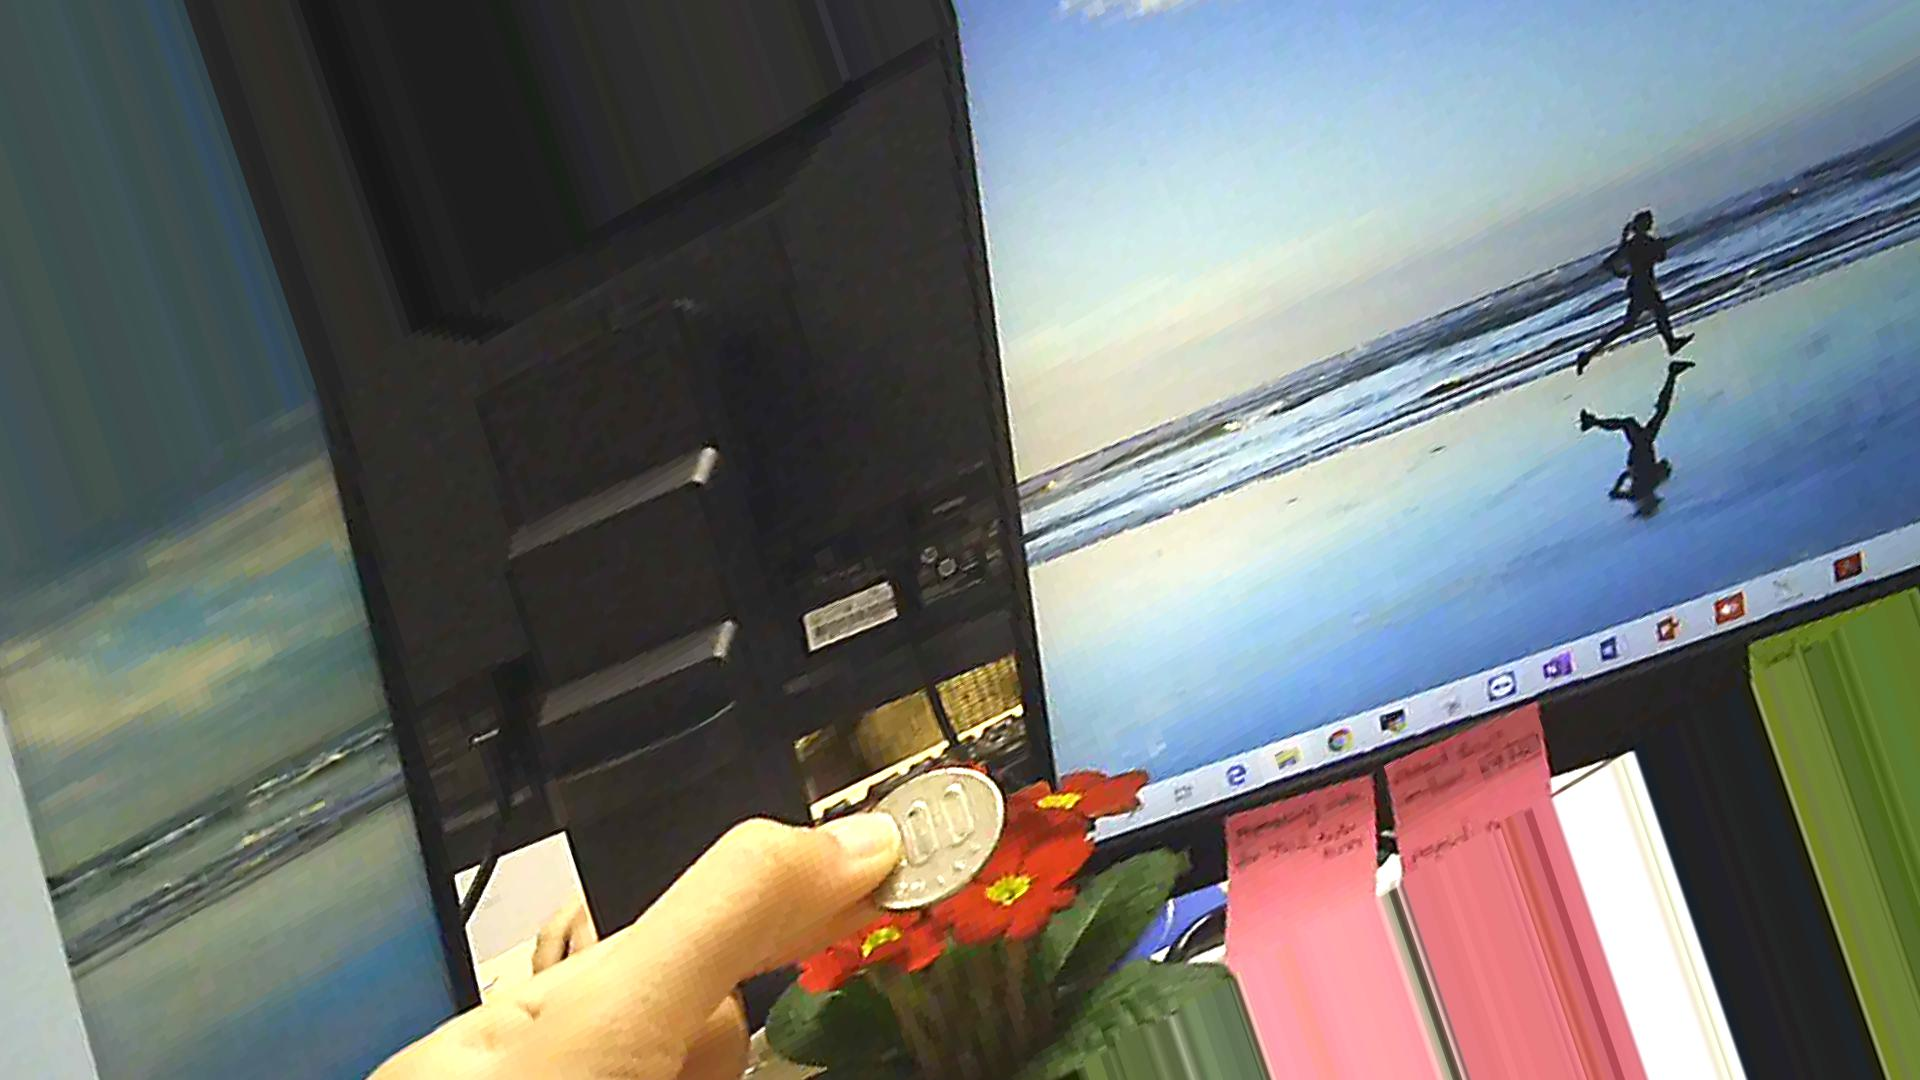100 Yen: (837, 761, 1011, 928)
